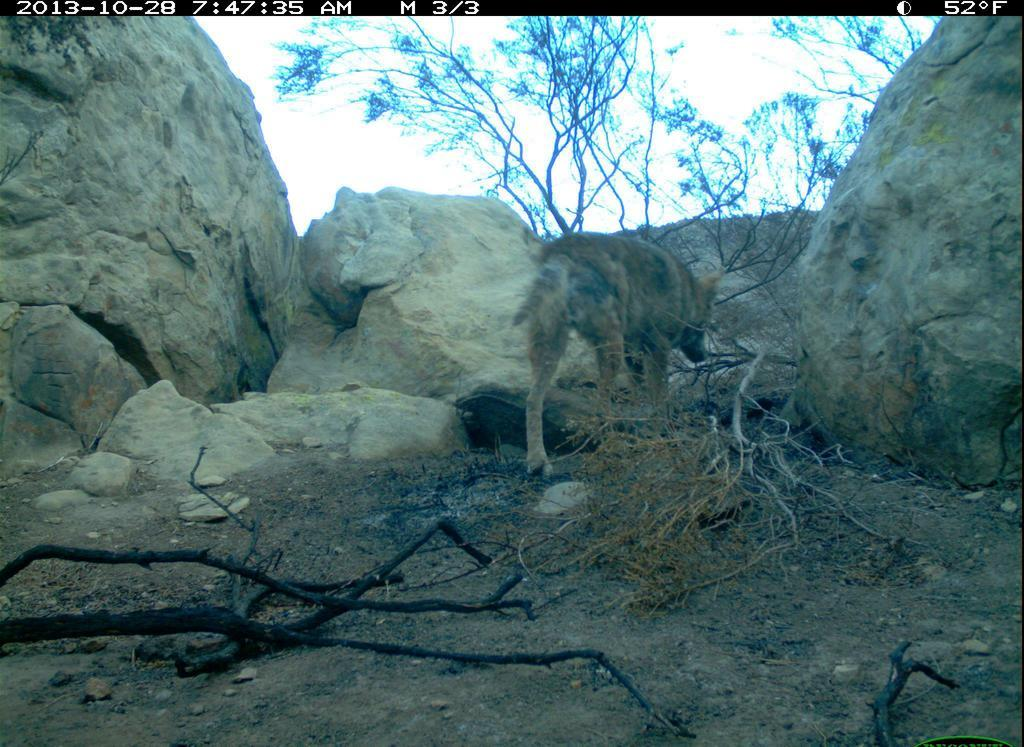coyote: (501, 217, 737, 493)
